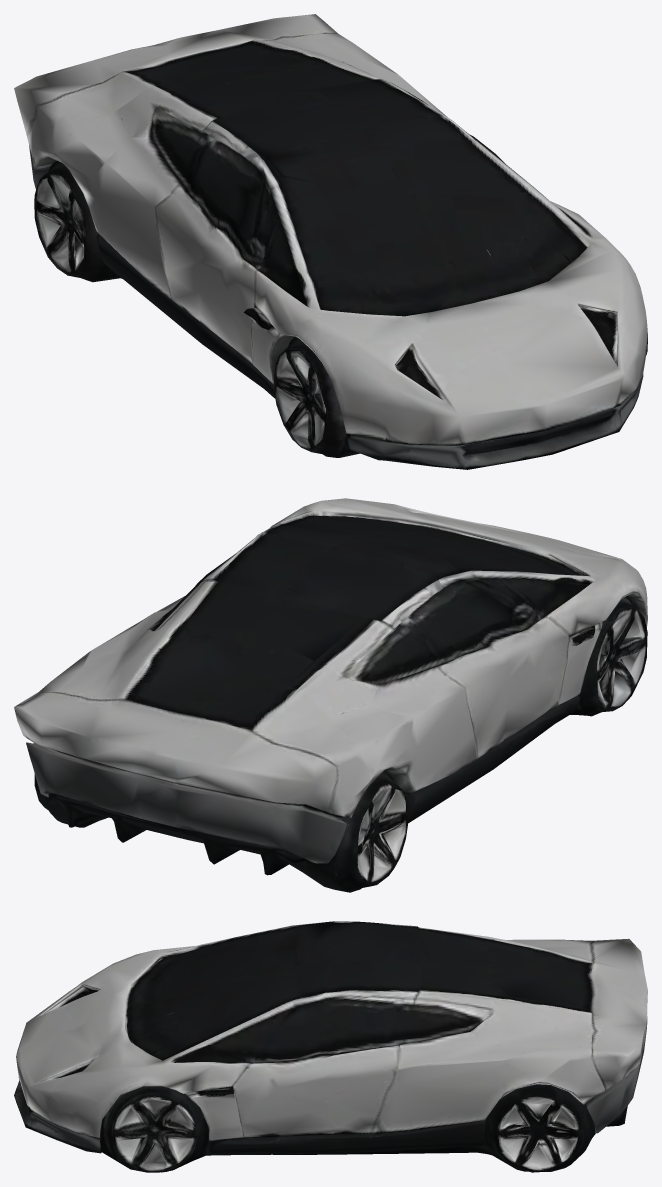
Rendered from apex_lo.glb.
3 views of the same model, one above another, from view 1: azimuth 30°, elevation 25°; view 2: azimuth 150°, elevation 25°; view 3: azimuth 270°, elevation 25° (orthographic). The views are drawn at different scales.
Parts seen in each view (by area): view 1: tripo_node_3b1cfda7-6393-4502-aeaf-d1cabfa22e0d; view 2: tripo_node_3b1cfda7-6393-4502-aeaf-d1cabfa22e0d; view 3: tripo_node_3b1cfda7-6393-4502-aeaf-d1cabfa22e0d.
Boxes of the visible parts, <box> form: tripo_node_3b1cfda7-6393-4502-aeaf-d1cabfa22e0d: <box>14,14,647,469</box>; tripo_node_3b1cfda7-6393-4502-aeaf-d1cabfa22e0d: <box>14,498,647,892</box>; tripo_node_3b1cfda7-6393-4502-aeaf-d1cabfa22e0d: <box>14,921,647,1172</box>.
Size of the model in its own units: 0.4787 by 0.2789 by 0.9796.
1 material, 1 textured.
